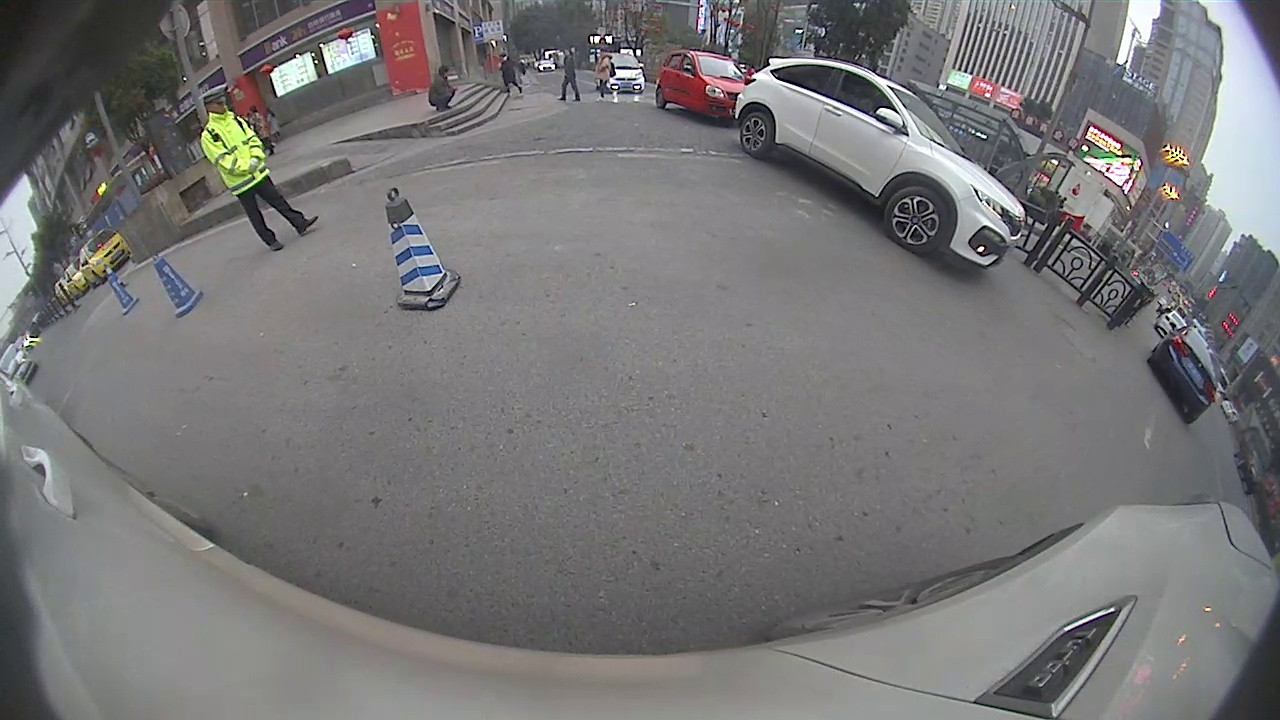car: (736, 58, 1027, 279), (1148, 327, 1224, 427), (655, 52, 748, 121)
front: (878, 180, 952, 256)
person: (198, 86, 282, 260), (498, 53, 523, 99), (595, 48, 614, 102), (432, 66, 454, 112), (560, 51, 579, 102)
rear: (735, 107, 776, 158), (653, 85, 666, 109)
